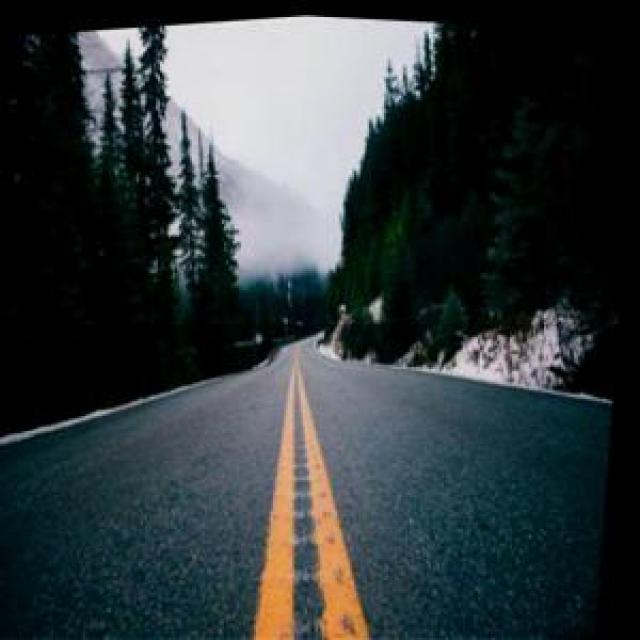clear-road: (0, 325, 619, 640)
